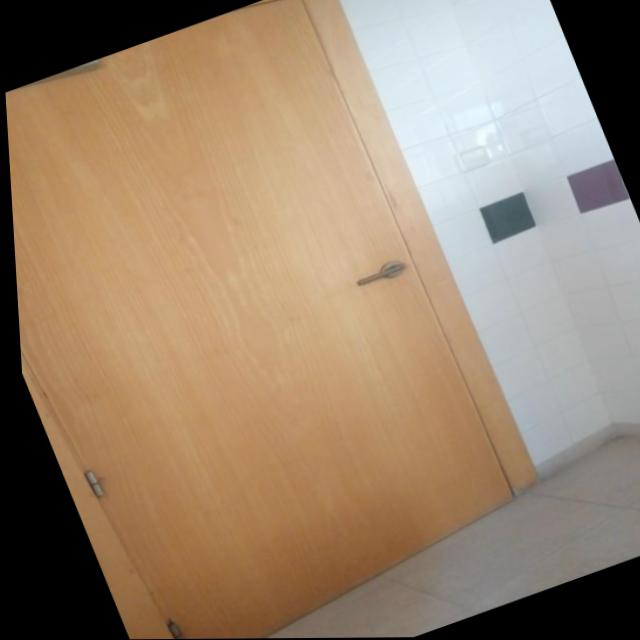door_handle: (347, 259, 408, 289)
